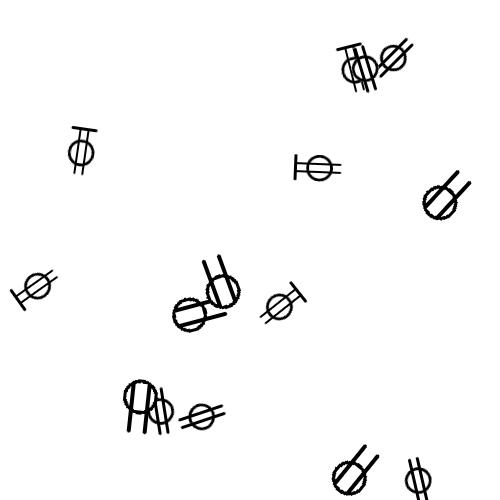Duplex-Receptacle: (416, 179, 475, 215), (168, 295, 227, 331), (191, 266, 250, 302), (325, 454, 384, 490), (110, 387, 169, 423), (255, 290, 307, 323), (329, 52, 381, 85), (292, 151, 344, 184), (10, 270, 62, 303), (56, 135, 108, 168), (176, 400, 229, 431), (393, 466, 446, 497), (133, 395, 186, 426), (367, 41, 420, 72), (340, 54, 393, 85)
